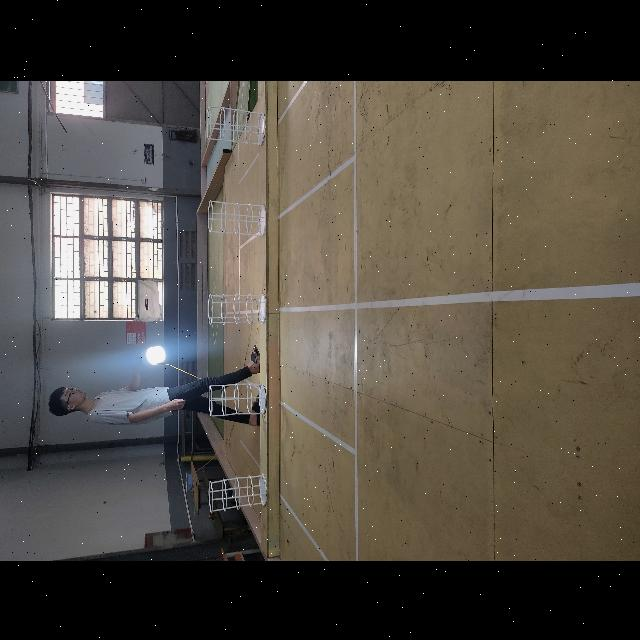S: (208, 472, 268, 514), (207, 104, 266, 146), (208, 198, 266, 236), (208, 382, 268, 416), (207, 292, 267, 324)
